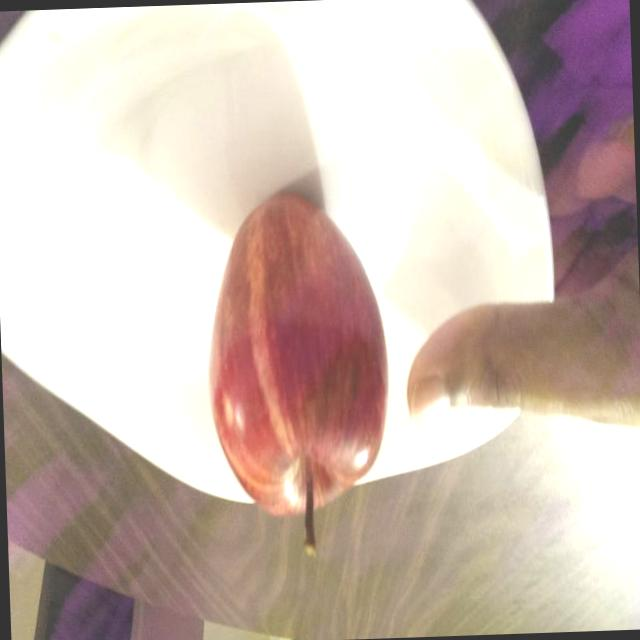Apple: (198, 183, 397, 567)
Finger: (398, 289, 522, 429)
